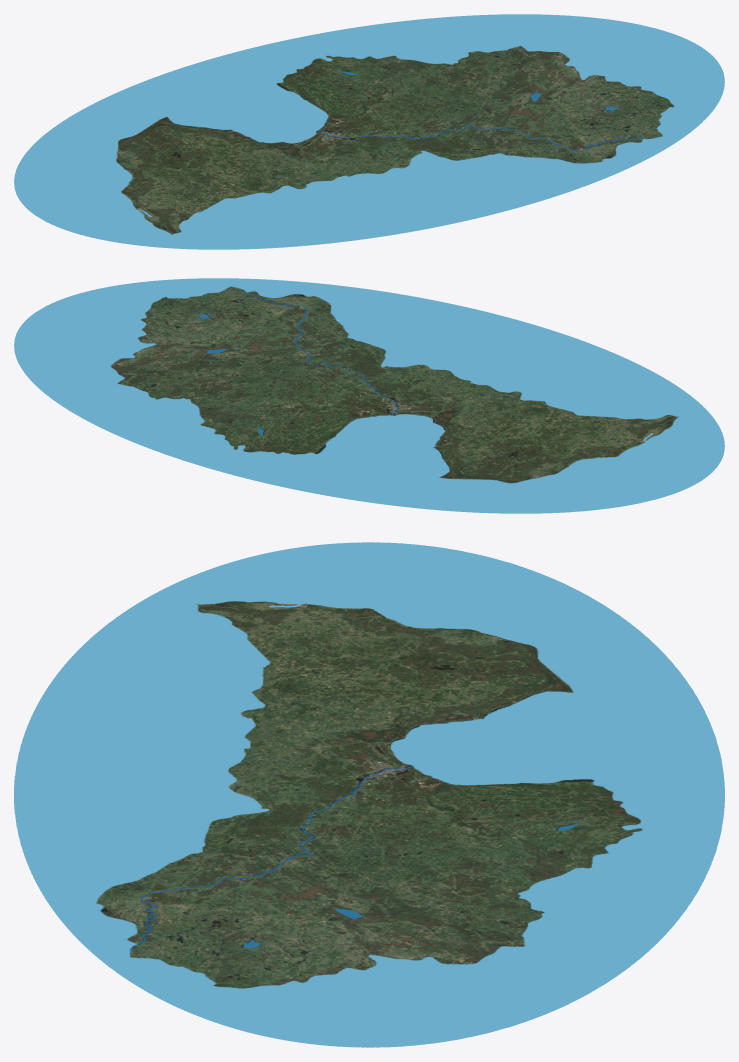
Rendered from LVA-previa-terrain.glb.
The picture shows the model from 3 angles, top to bottom: view 1: azimuth 30°, elevation 25°; view 2: azimuth 150°, elevation 25°; view 3: azimuth 270°, elevation 25°; orthographic projection. The views are drawn at different scales.
Visible parts, largest first — view 1: Letónia; view 2: Letónia; view 3: Letónia.
Part boxes in pixels (left/top/right/bottom): Letónia: left=14, top=14, right=724, bottom=249; Letónia: left=14, top=278, right=724, bottom=513; Letónia: left=14, top=542, right=724, bottom=1047.
Bounding box in the file's own units: 2.33 × 0.0101 × 1.38.
1 material, 1 textured.
